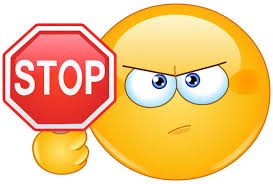stop sign: (3, 23, 118, 132)
